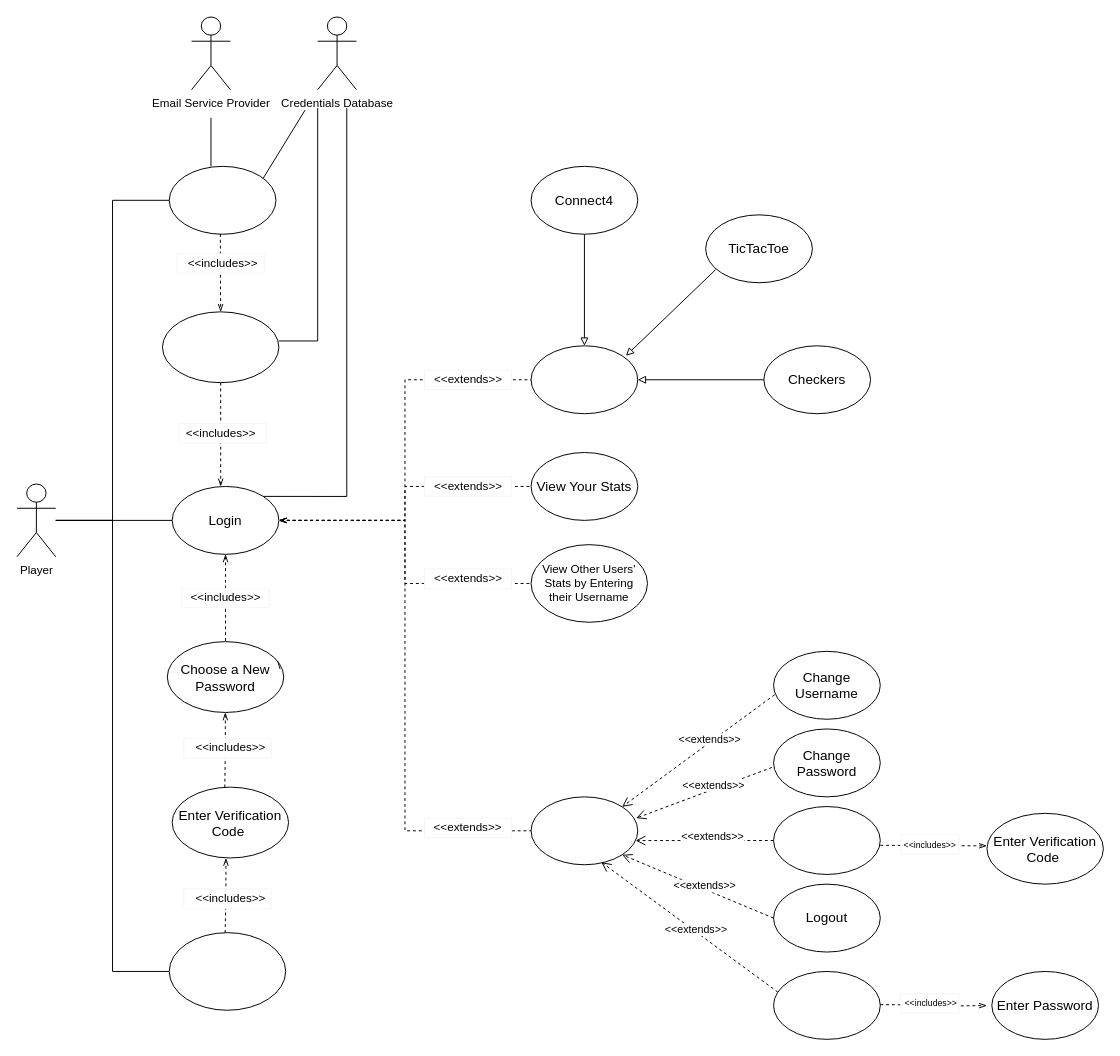
The diagram is 1120 pixels wide and 1056 high, and some of its shapes have lost their labels. Each missing label, with the centre of its shape:
Change Email: point 826,840
Creating A New Account: point 222,199
Delete Account: point 826,1004
Enter Verification Code Sent to Email to Register New Account: point 220,347
Forgot Password or Username: point 227,971
Play Games: point 584,379
Settings: point 584,830
